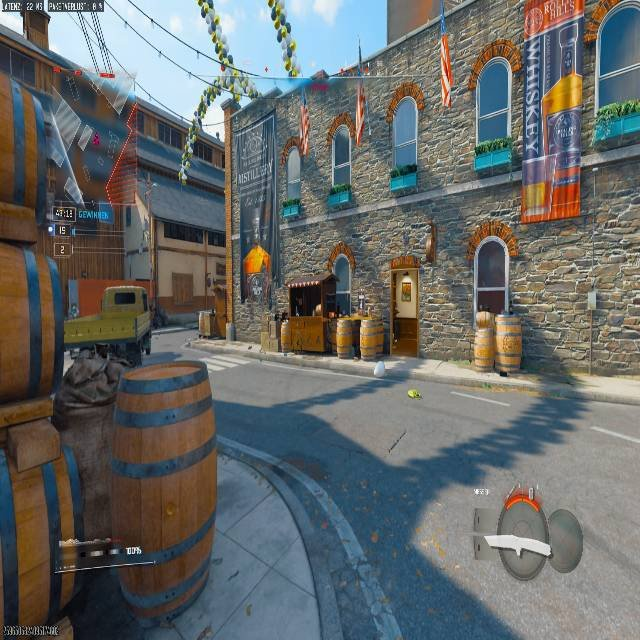player: (137, 296, 167, 355)
